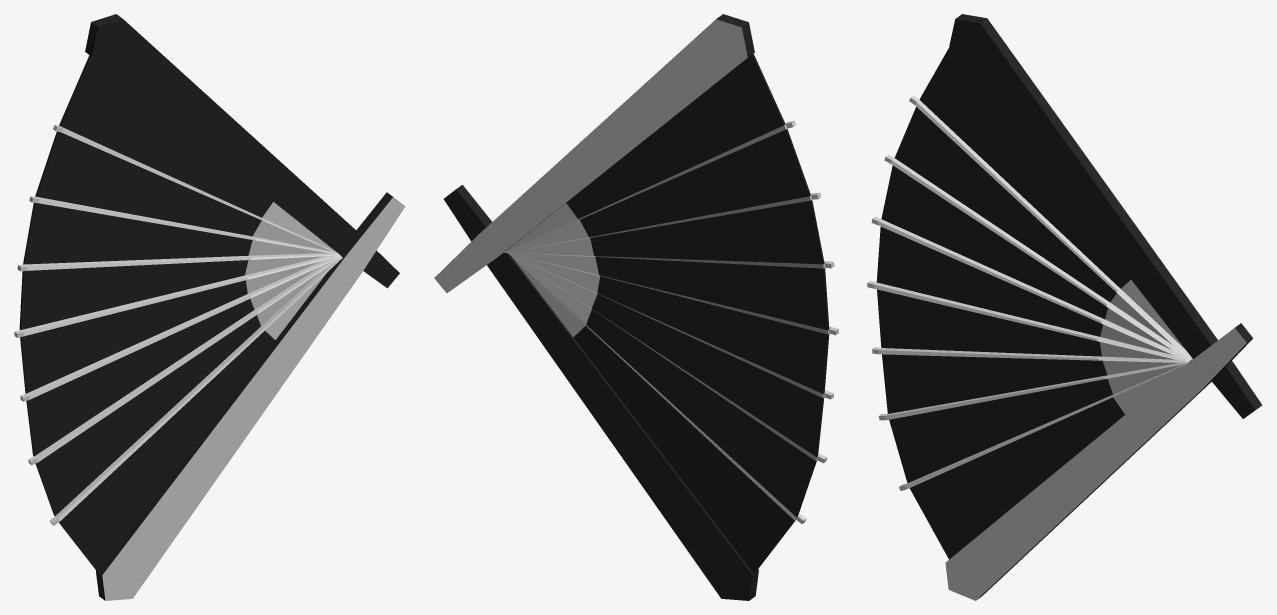
Rendered from Iron War Fan.fbx.
3 renders of one model, left to right at view 1: azimuth 30°, elevation 25°; view 2: azimuth 150°, elevation 25°; view 3: azimuth 330°, elevation 25°, orthographic. The views are drawn at different scales.
Parts seen in each view (by area): view 1: Tessen; view 2: Tessen; view 3: Tessen.
Part boxes in pixels (x1=…): Tessen: x1=14, y1=14, x2=405, y2=600; Tessen: x1=434, y1=14, x2=838, y2=600; Tessen: x1=867, y1=14, x2=1262, y2=600.
Bounding box in the file's own units: 28.83 × 41 × 1.82.
